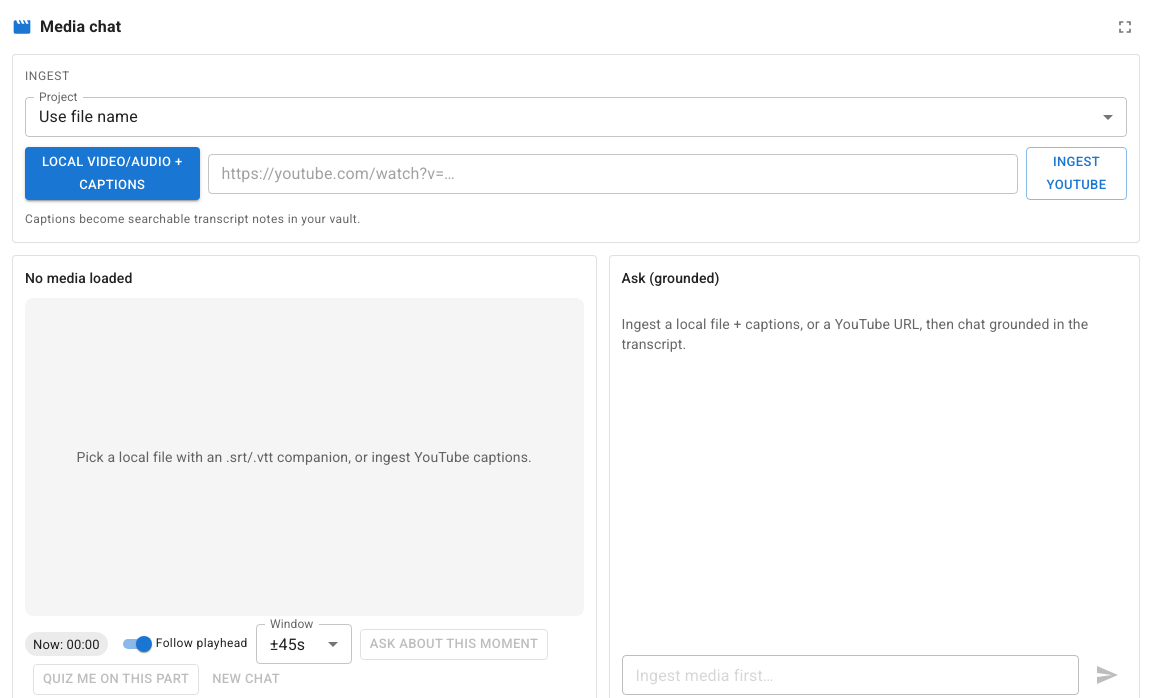
it: MediaChatView › sends a chat message and renders citations
Type "https://youtube.com/watch?v=abc123" into the field with placeholder "https://youtube.com/watch?v=…" at point(613, 174), box top-left (208, 154), bottom-right (1018, 194)
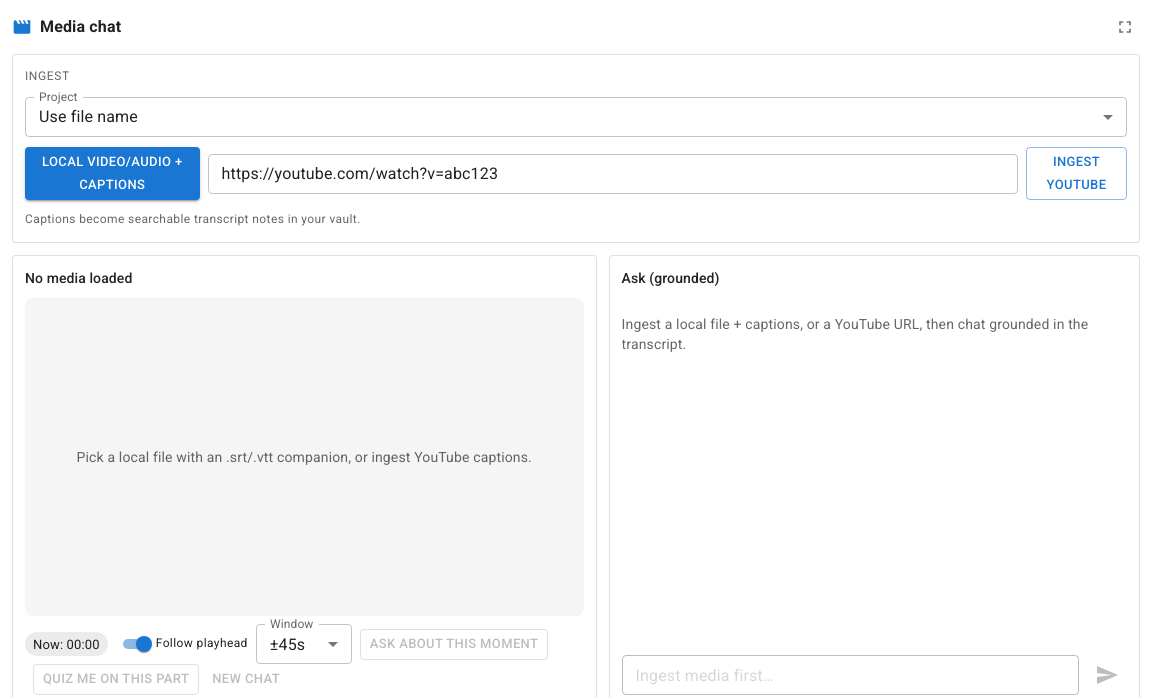
Click the button "Ingest YouTube" at point(1076, 174), box top-left (1026, 147), bottom-right (1127, 200)
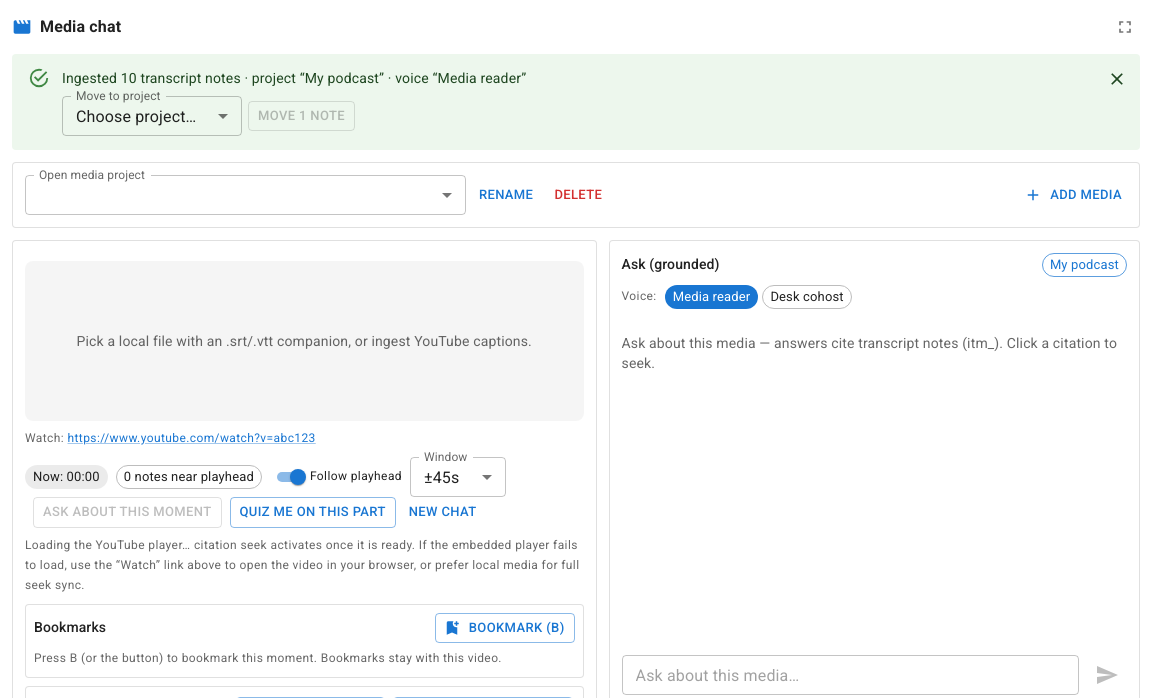
Check: the text "Ingested 10 transcript notes" is shown, box top-left (62, 70), bottom-right (526, 86)
Type "What is this about?" into the text box with placeholder "Ask about this media…" at point(850, 675), box top-left (636, 664), bottom-right (1065, 686)
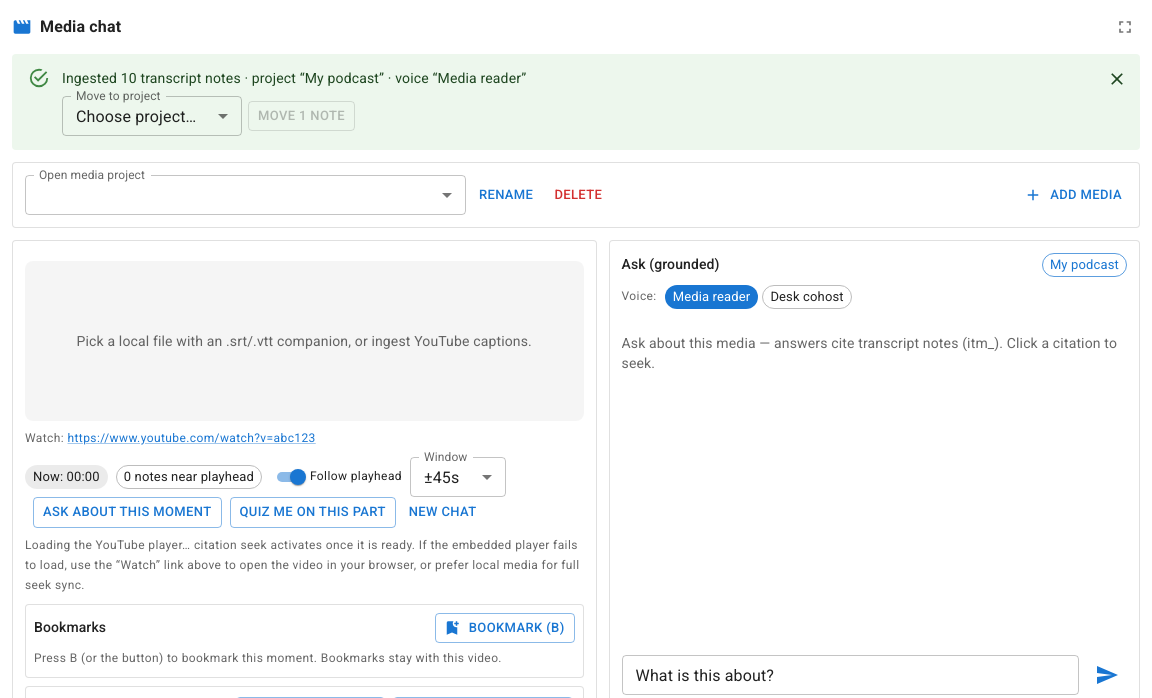
Click the button named "Send" at point(1107, 675), box top-left (1087, 655), bottom-right (1127, 695)
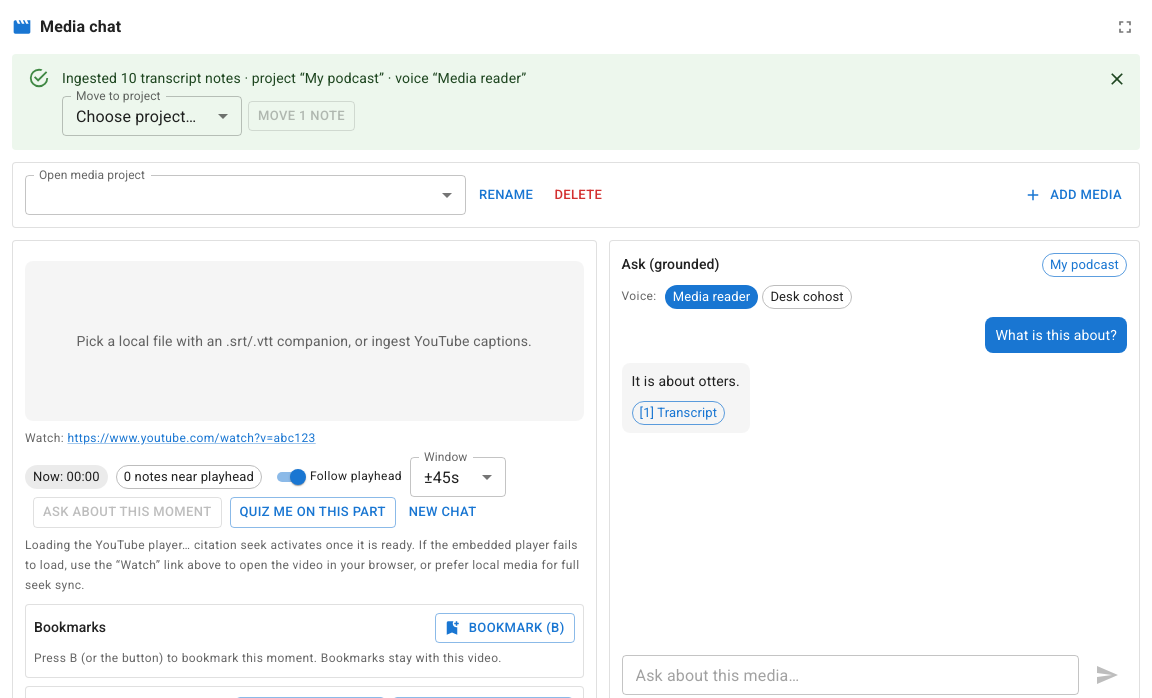
Check: the text "It is about otters." is shown, box top-left (632, 371), bottom-right (740, 393)
Check: the text "[1] Transcript" is shown, box top-left (640, 405), bottom-right (717, 420)
